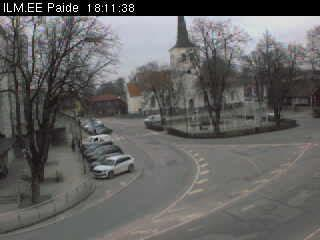car: (93, 153, 135, 180), (88, 144, 120, 163), (91, 153, 123, 171), (85, 141, 113, 159), (81, 135, 111, 151), (144, 112, 161, 127), (84, 119, 104, 130), (89, 127, 113, 135)
person: (70, 137, 75, 150)
